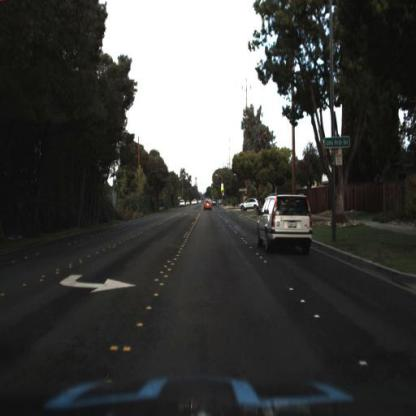car: (258, 195, 315, 255), (240, 196, 261, 211), (204, 199, 216, 213)
